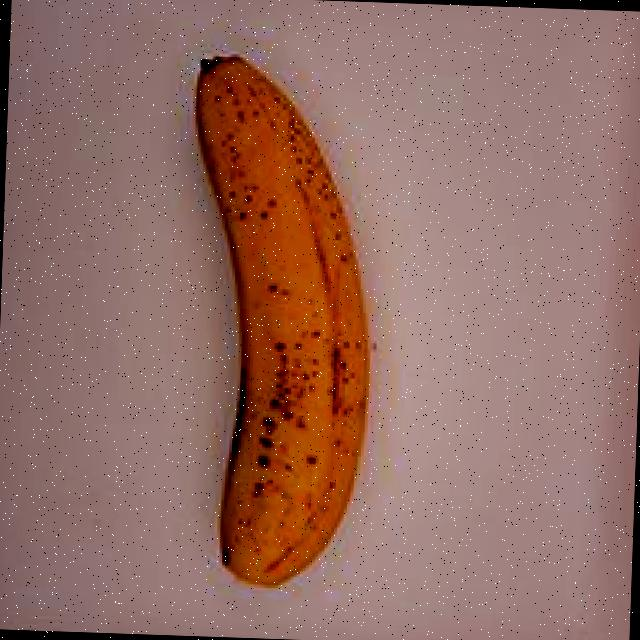Overripe: (110, 10, 428, 596)
